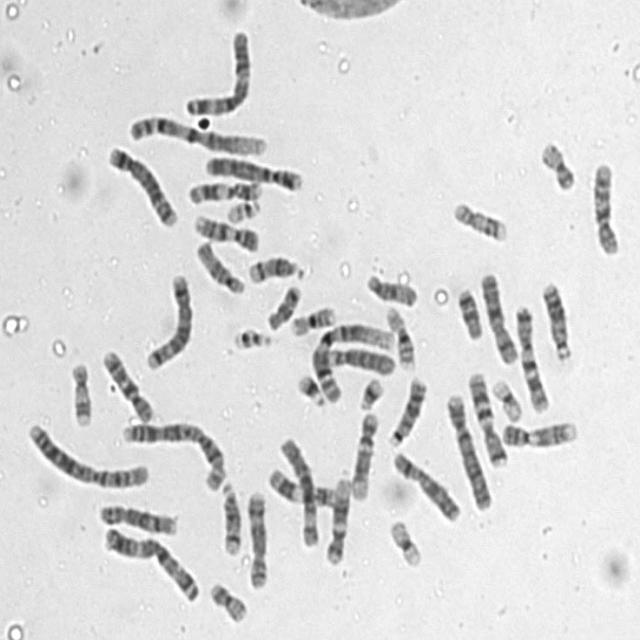A1: (306, 314, 398, 405), (123, 106, 270, 158)
A2: (22, 415, 152, 491), (114, 414, 228, 492)
A3: (96, 517, 202, 604), (180, 21, 254, 118)
B4: (440, 385, 495, 512), (199, 148, 305, 193)
B5: (102, 138, 180, 230), (141, 267, 195, 371)
C10: (96, 342, 156, 424), (586, 153, 623, 257)
C11: (262, 460, 340, 508), (182, 172, 264, 205)
C12: (345, 405, 380, 503), (320, 470, 352, 566)
C6: (274, 428, 322, 548), (315, 340, 397, 378)
C7: (462, 365, 510, 469), (510, 297, 551, 414)
C8: (93, 496, 179, 536), (241, 484, 270, 592)
C9: (188, 207, 262, 253), (497, 412, 579, 450)
D13: (383, 369, 429, 449), (536, 274, 573, 362)
D14: (215, 473, 243, 557), (242, 248, 306, 284)
D15: (190, 233, 248, 296), (360, 265, 420, 308)
E16: (380, 299, 418, 372), (285, 298, 338, 338)
E17: (447, 194, 510, 243), (63, 354, 94, 428)
E18: (261, 277, 303, 330), (452, 280, 484, 342)
F19: (384, 512, 423, 569), (486, 371, 524, 423)
F20: (534, 134, 578, 192), (204, 575, 249, 624)
G21: (291, 366, 327, 408), (354, 370, 386, 412)
G22: (228, 320, 274, 351), (222, 193, 262, 224)
X: (387, 444, 464, 524), (475, 264, 520, 366)
